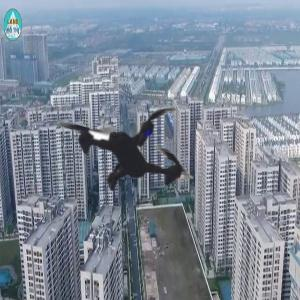drone: (16, 34, 239, 257)
